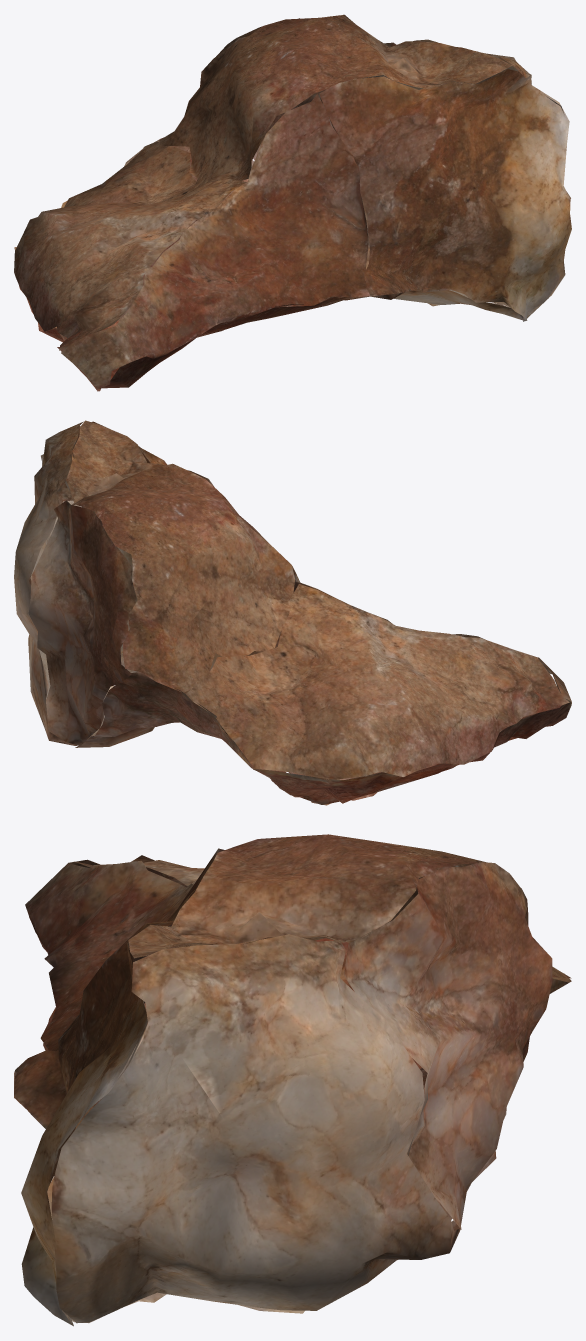
The model's file is pr_stone.fbx.
3 renders of one model, top to bottom at view 1: azimuth 30°, elevation 25°; view 2: azimuth 150°, elevation 25°; view 3: azimuth 270°, elevation 25°, orthographic. The views are drawn at different scales.
Parts seen in each view (by area): view 1: pr_stone_LOD0; view 2: pr_stone_LOD0; view 3: pr_stone_LOD0.
Boxes of the visible parts, x1,y1,x2,y2 form: pr_stone_LOD0: (14, 14, 571, 391); pr_stone_LOD0: (14, 420, 571, 805); pr_stone_LOD0: (14, 834, 571, 1326).
Size of what is drawn, in the model's own units: 0.1468 by 0.0724 by 0.0888.
1 material, 1 textured.
